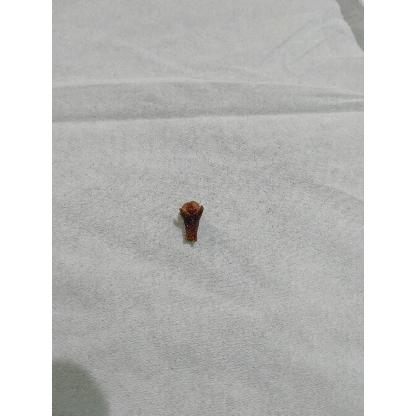buruk: (178, 200, 205, 245)
